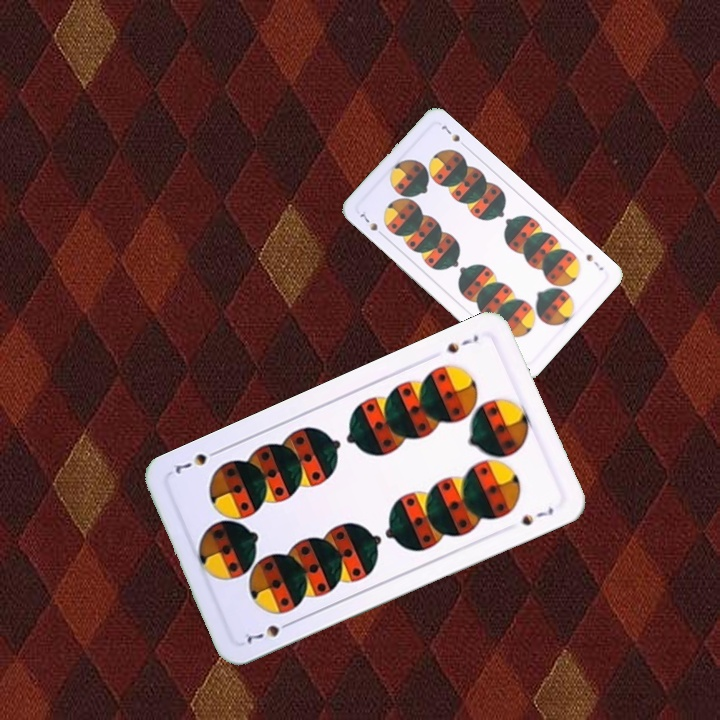S7: (242, 617, 296, 646), (442, 330, 481, 356), (356, 209, 387, 240), (582, 250, 606, 273)
